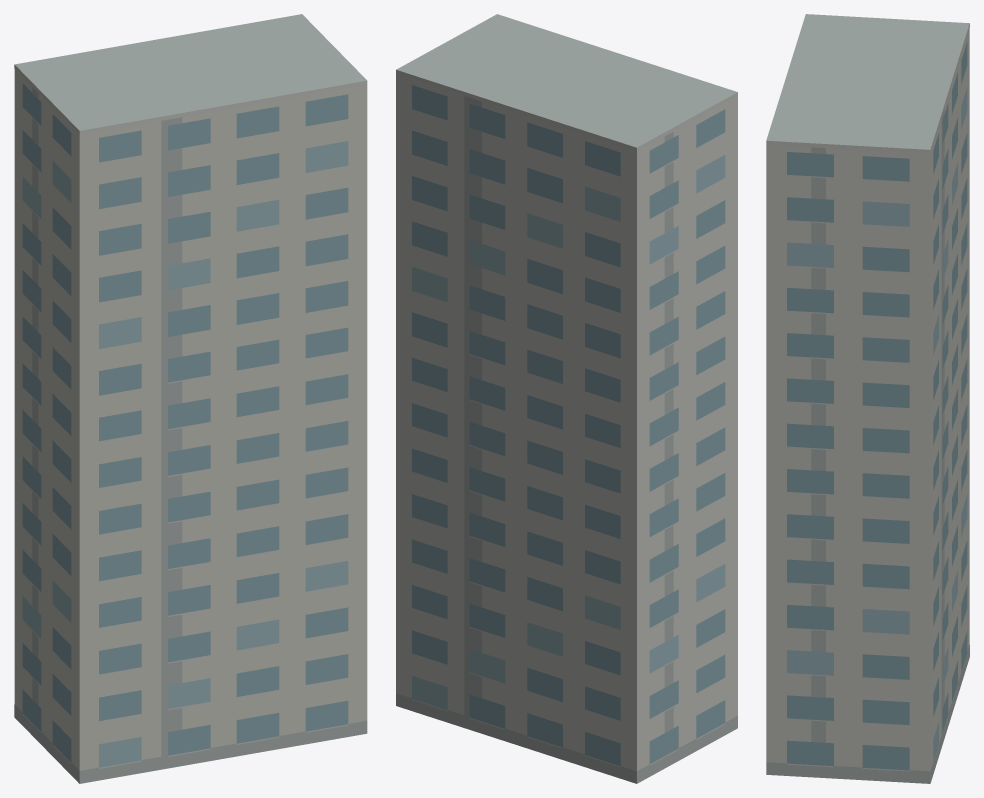
The model's file is residential-14891f03-3d1d-44aa-84c8-ab8bca5bb37a.glb.
The picture shows the model from 3 angles, left to right: view 1: azimuth 30°, elevation 25°; view 2: azimuth 150°, elevation 25°; view 3: azimuth 270°, elevation 25°; orthographic projection. The views are drawn at different scales.
Visible parts, largest first — view 1: residential-14891f03-3d1d-44aa-84c8-ab8bca5bb37a.tmp; view 2: residential-14891f03-3d1d-44aa-84c8-ab8bca5bb37a.tmp; view 3: residential-14891f03-3d1d-44aa-84c8-ab8bca5bb37a.tmp.
Part boxes in pixels (left/top/right/bottom): residential-14891f03-3d1d-44aa-84c8-ab8bca5bb37a.tmp: left=14, top=14, right=367, bottom=783; residential-14891f03-3d1d-44aa-84c8-ab8bca5bb37a.tmp: left=396, top=14, right=737, bottom=783; residential-14891f03-3d1d-44aa-84c8-ab8bca5bb37a.tmp: left=766, top=14, right=969, bottom=783.
Size of the model in its own units: 17.47 by 38 by 11.07.
